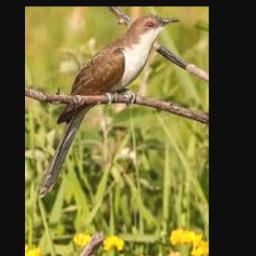Cuckoo: (37, 15, 180, 197)
